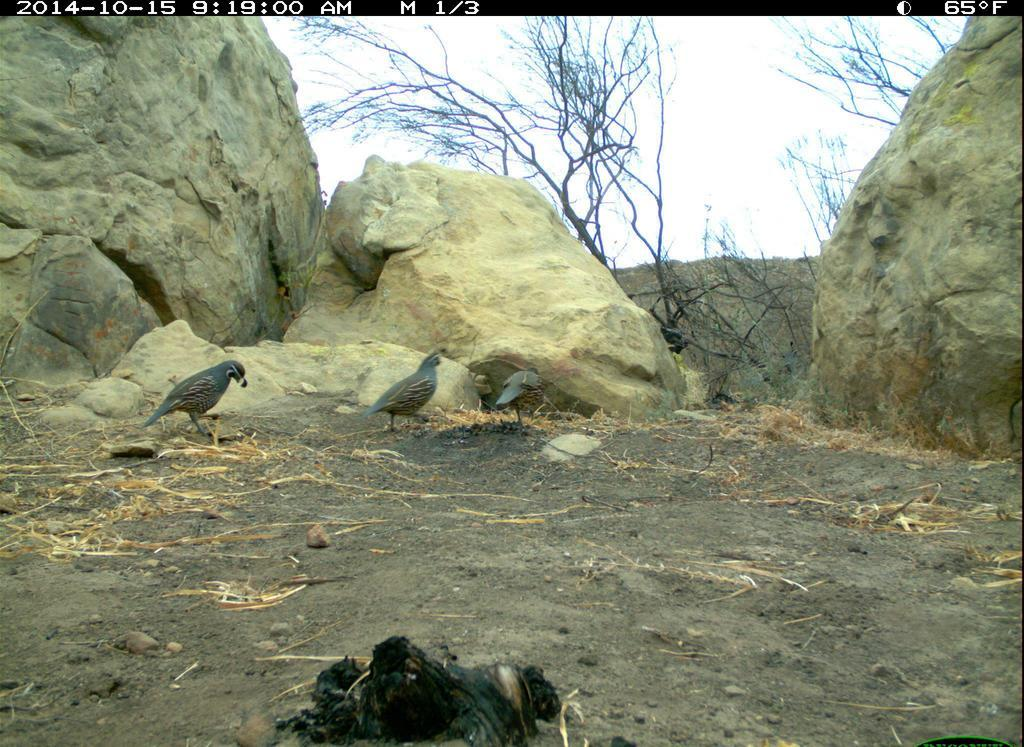bird: (138, 353, 253, 452), (359, 344, 455, 442), (491, 360, 554, 441), (774, 340, 799, 379)
